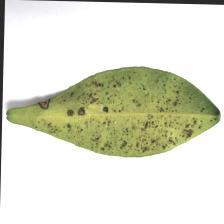canker: (65, 83, 188, 147)
